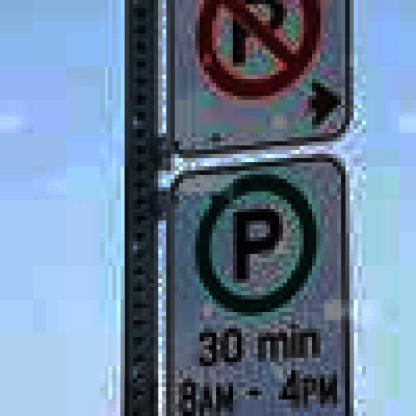No parking: (192, 0, 322, 96)
